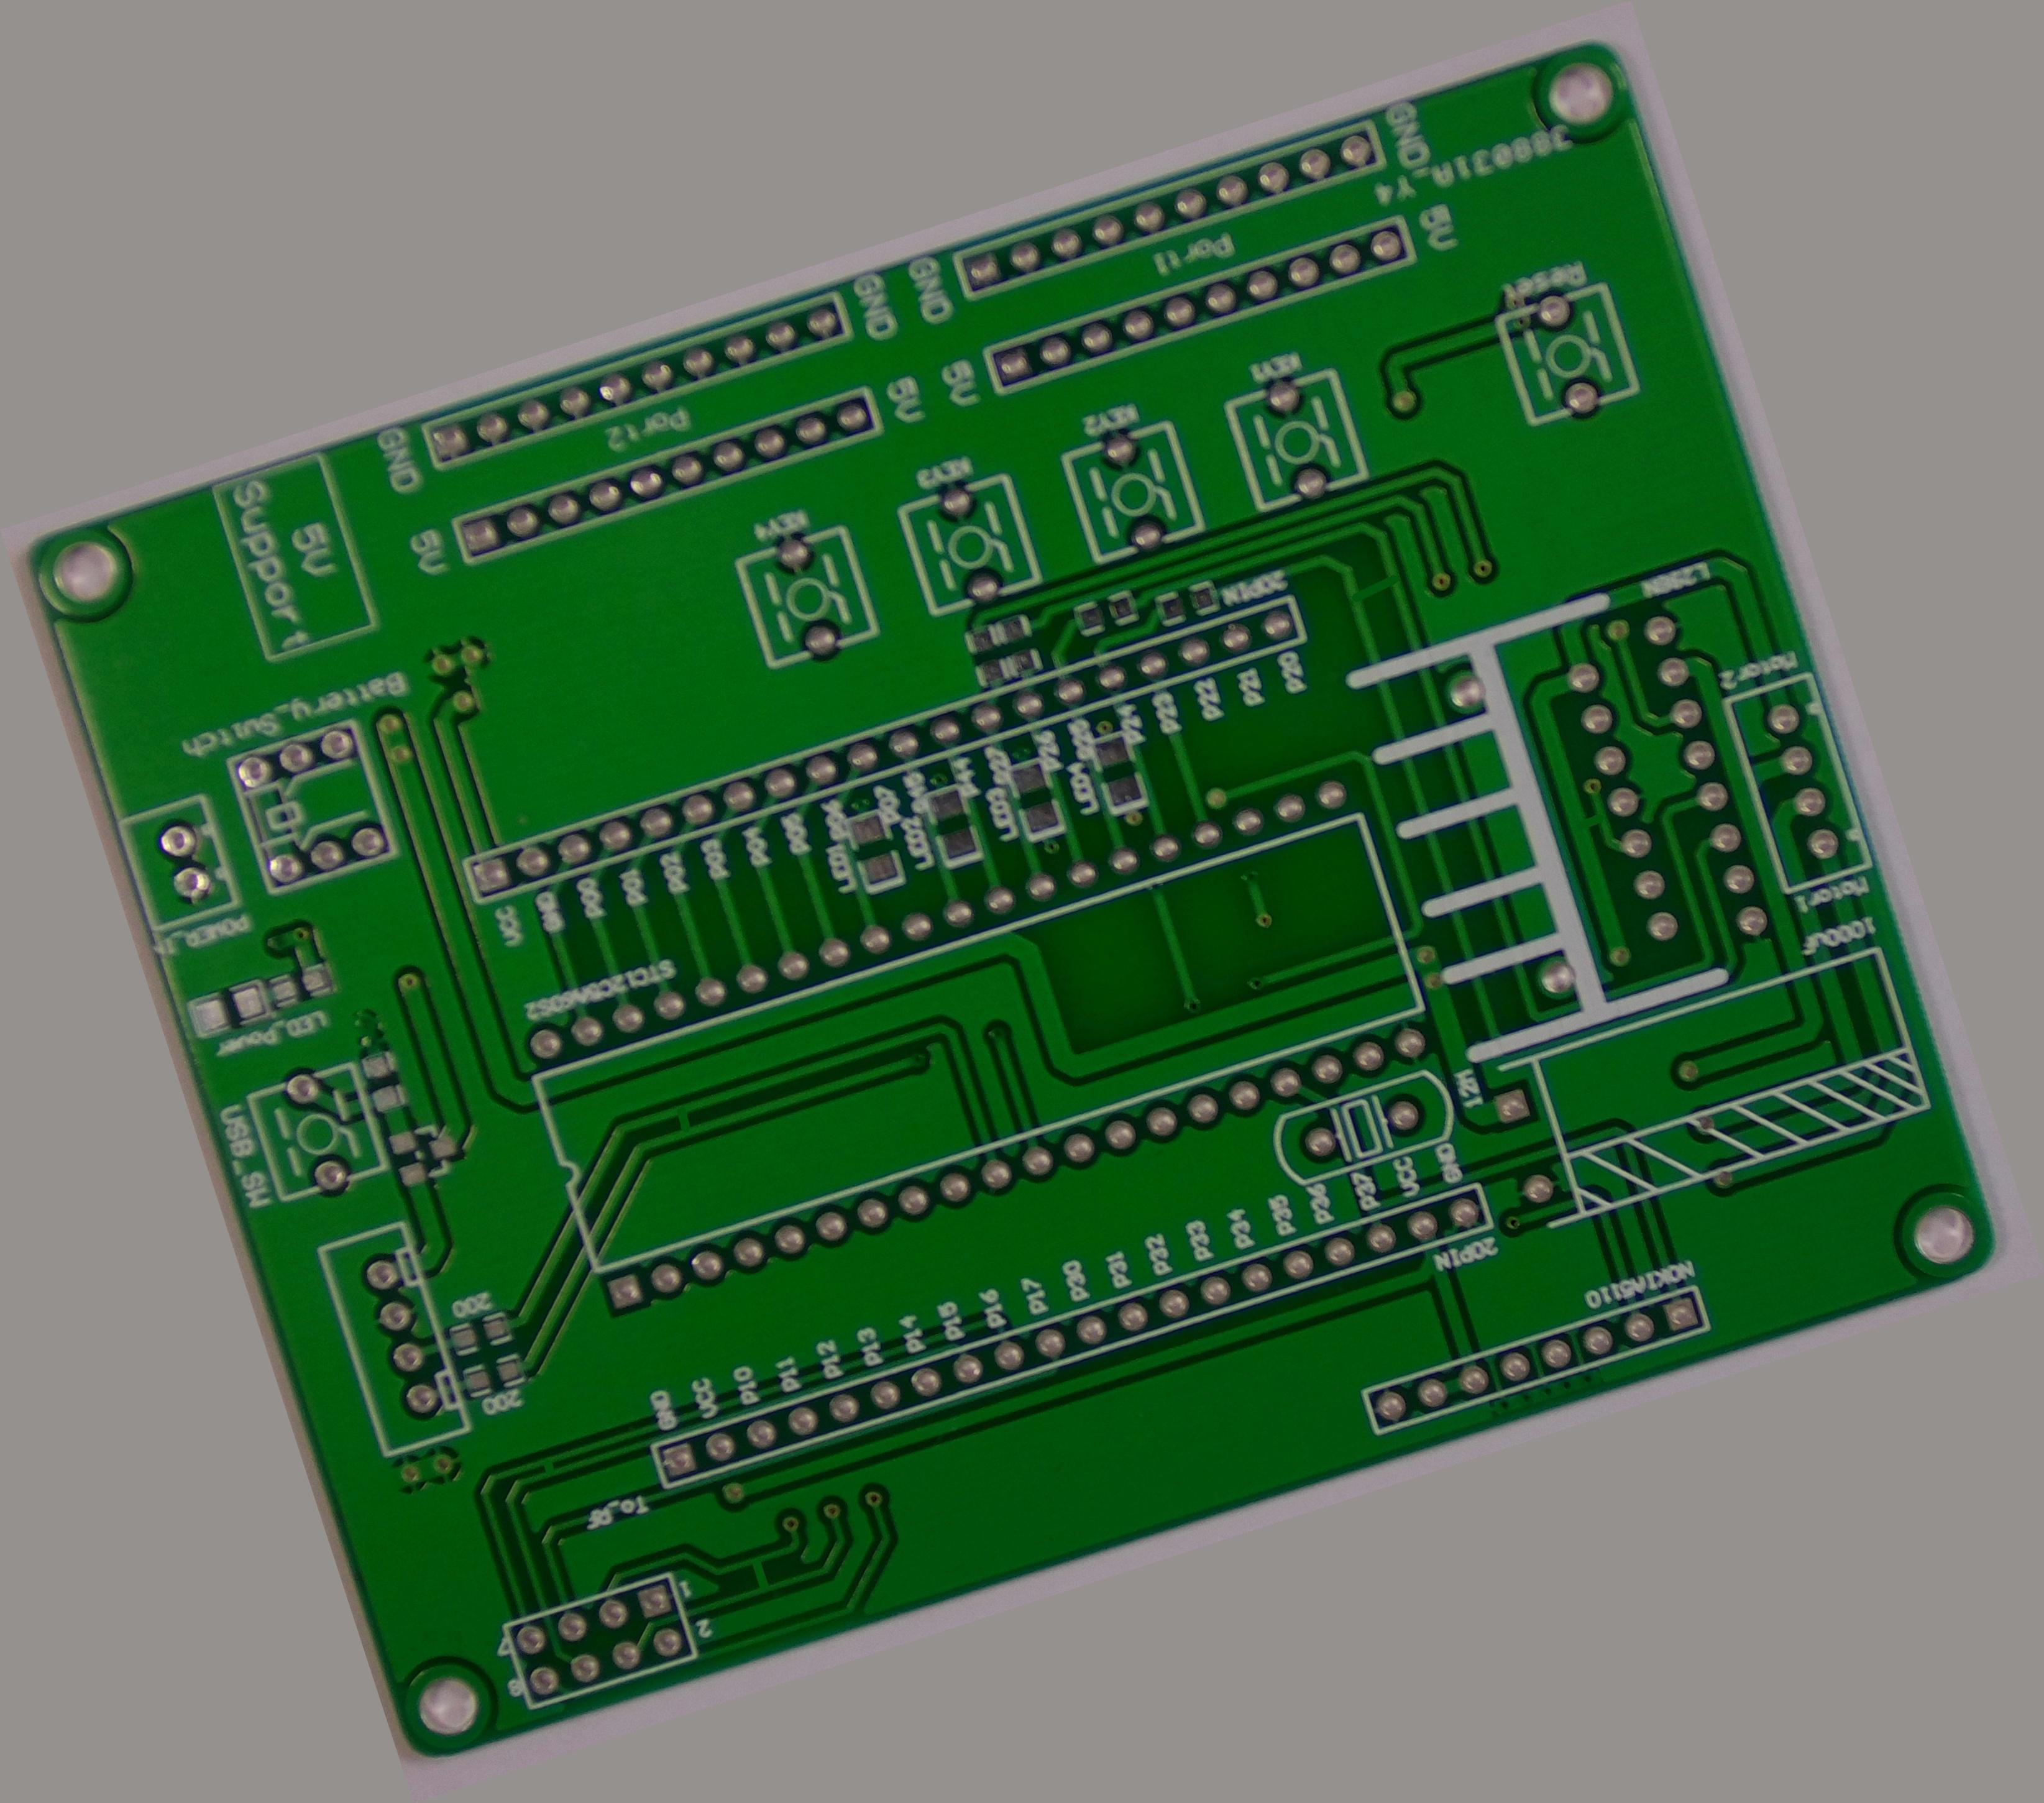short: (1327, 548, 1421, 628), (725, 1540, 790, 1605), (651, 1089, 713, 1152), (1557, 792, 1616, 851), (522, 1444, 572, 1488)
